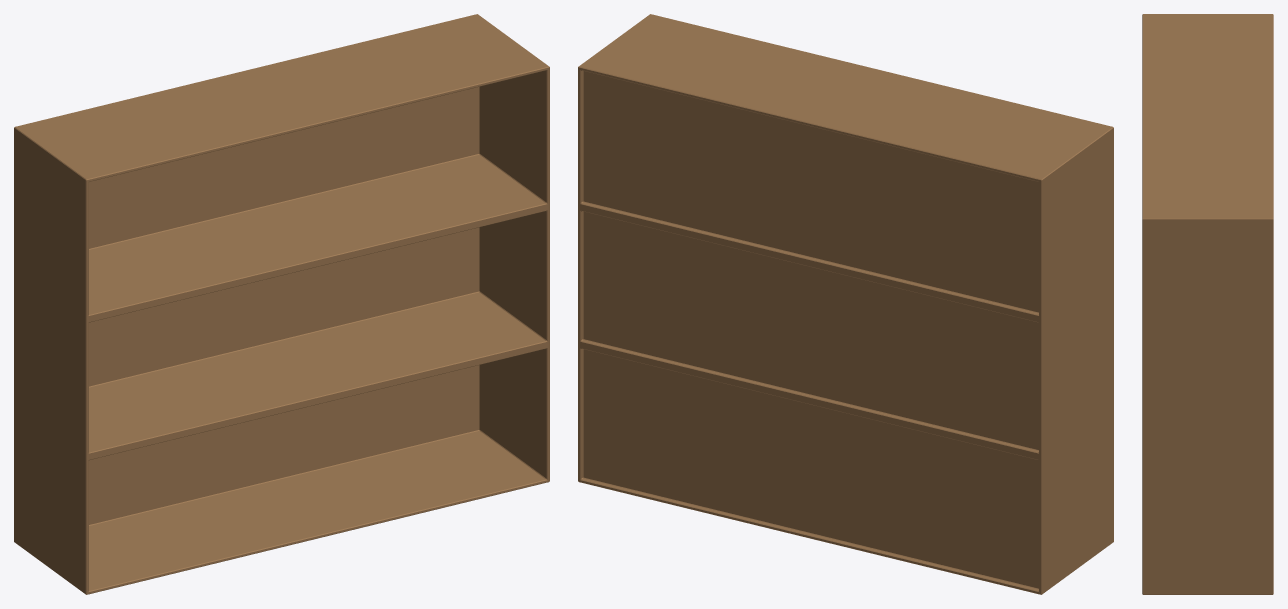
The model's file is Display_shelving_unit.fbx.
3 views of the same model, side by side, from view 1: azimuth 30°, elevation 25°; view 2: azimuth 150°, elevation 25°; view 3: azimuth 270°, elevation 25° (orthographic). The views are drawn at different scales.
Visible parts, largest first — view 1: Mueble alto; view 2: Mueble alto; view 3: Mueble alto.
Boxes of the visible parts, x1,y1,x2,y2 form: Mueble alto: (14,14,549,594); Mueble alto: (578,14,1113,594); Mueble alto: (1142,14,1273,594).
Size of the model in its own units: 740 by 633 by 200.
